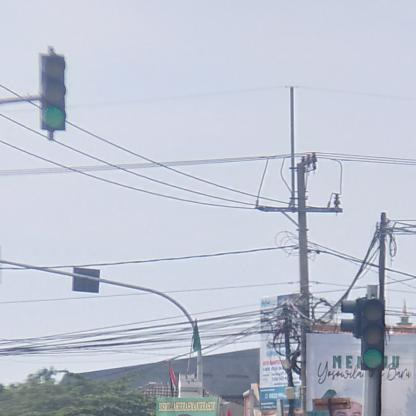green: (41, 58, 68, 135), (363, 299, 385, 372)
